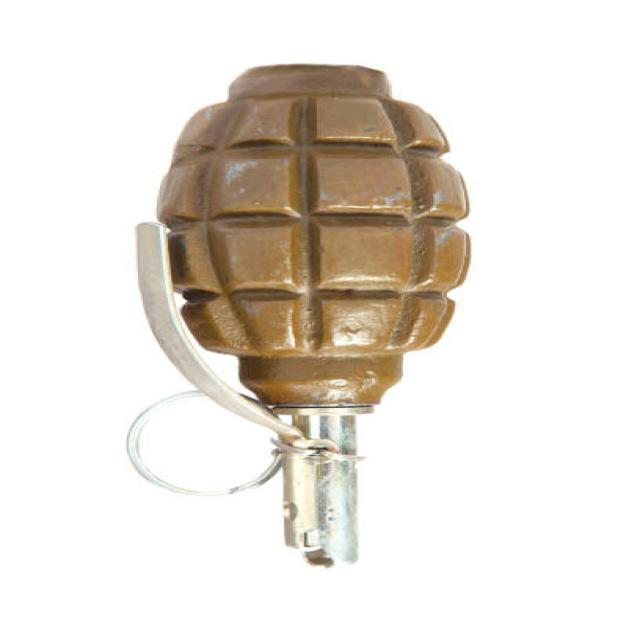grenade: (116, 52, 486, 584)
